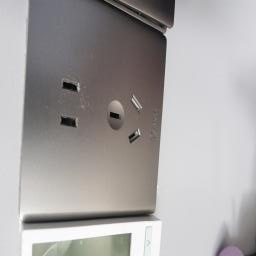outlet: (18, 0, 172, 226)
